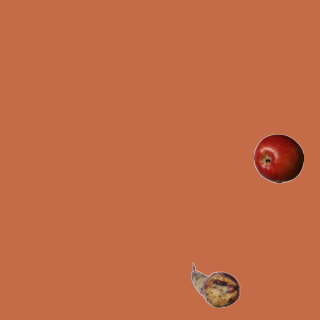Apple Braeburn: (253, 133, 303, 183)
Pear Abate: (190, 260, 240, 310)
